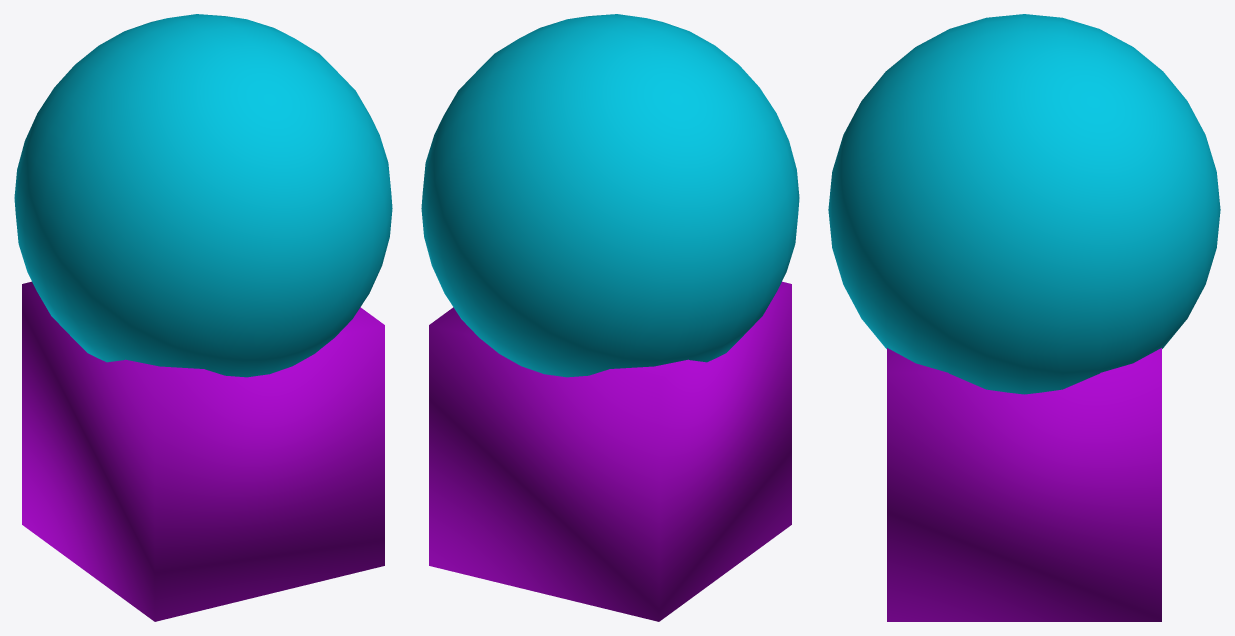
File: modelobjs.fbx
3 views of the same model, side by side, from view 1: azimuth 30°, elevation 25°; view 2: azimuth 150°, elevation 25°; view 3: azimuth 270°, elevation 25° (orthographic). The views are drawn at different scales.
Visible parts, largest first — view 1: mdl_sphere, mdl_cube; view 2: mdl_sphere, mdl_cube; view 3: mdl_sphere, mdl_cube.
Part boxes in pixels (<box>): mdl_sphere: <box>14,14,392,377</box>; mdl_cube: <box>22,281,384,621</box>; mdl_sphere: <box>421,14,799,377</box>; mdl_cube: <box>429,281,791,621</box>; mdl_sphere: <box>828,14,1220,394</box>; mdl_cube: <box>887,348,1161,621</box>.
Bounding box in the file's own units: 2.85 × 4.27 × 2.85.
2 materials, 2 textured.
